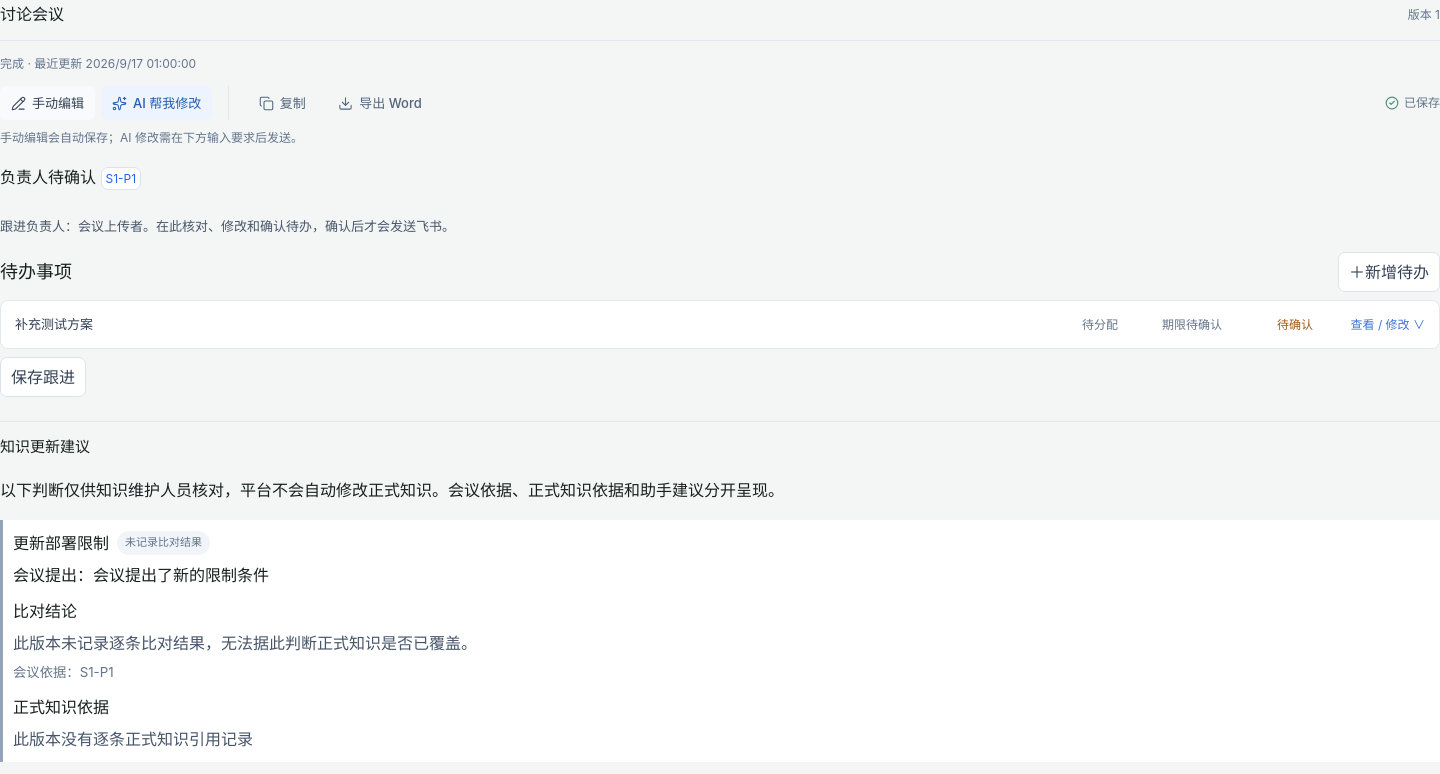
Test: meeting results › explains a missing task paragraph instead of showing unrelated evidence
The image size is (1440, 774).
What coordinates should you click on to do the following:
click the heading "补充测试方案 待分配 期限待确认 待确认 查看 / 修改 ∨"
I would click on:
 (54, 324)
Its box is [15,316,1425,332].
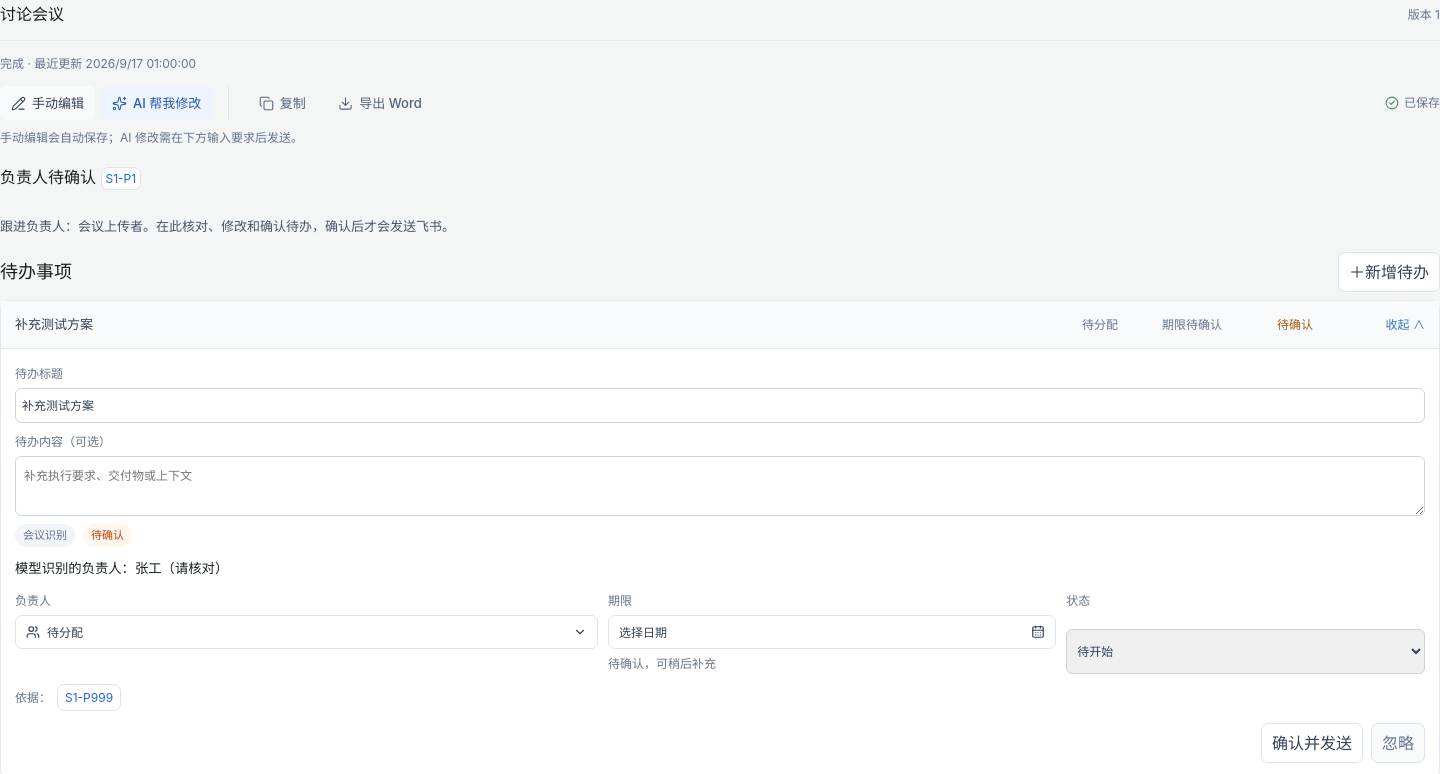
What coordinates should you click on to do the following:
click the button named "查看待办依据 S1-P999"
I would click on:
 (89, 698)
Its box is [57,684,121,711].
(page scrolled)
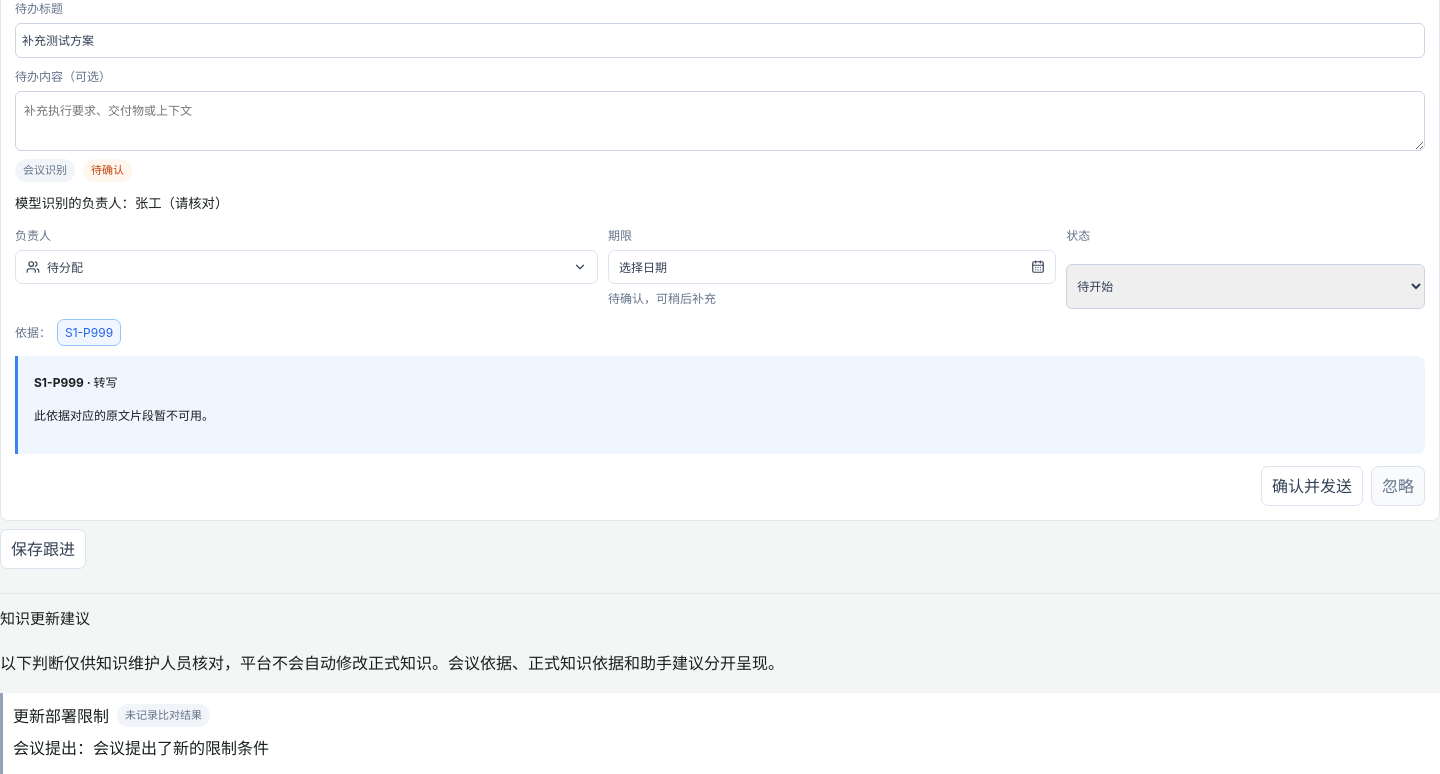
expect the element named "待办原文依据" shows "此依据对应的原文片段暂不可用。": met, box [34,408,214,423]
